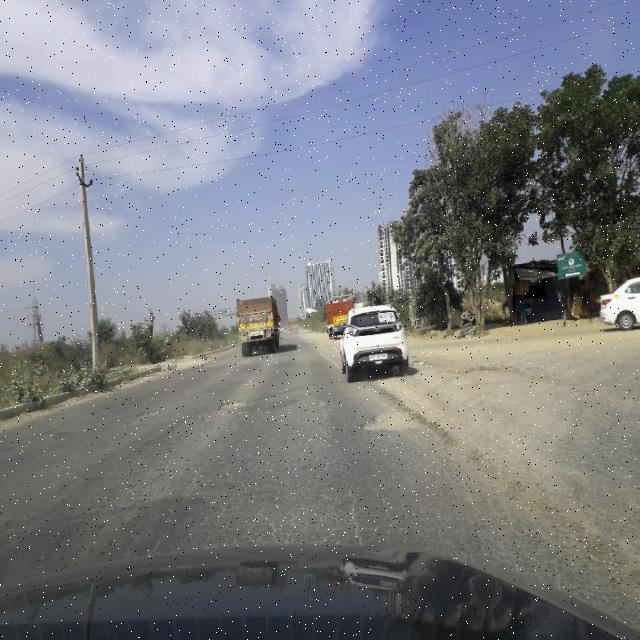D20: (70, 406, 400, 532)
D40: (353, 394, 439, 434), (125, 397, 163, 433), (215, 383, 252, 419)
